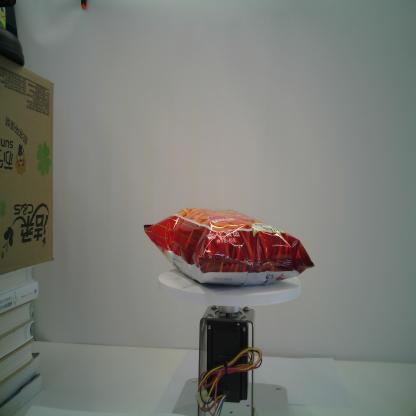Puffed Food: (143, 206, 315, 286)
